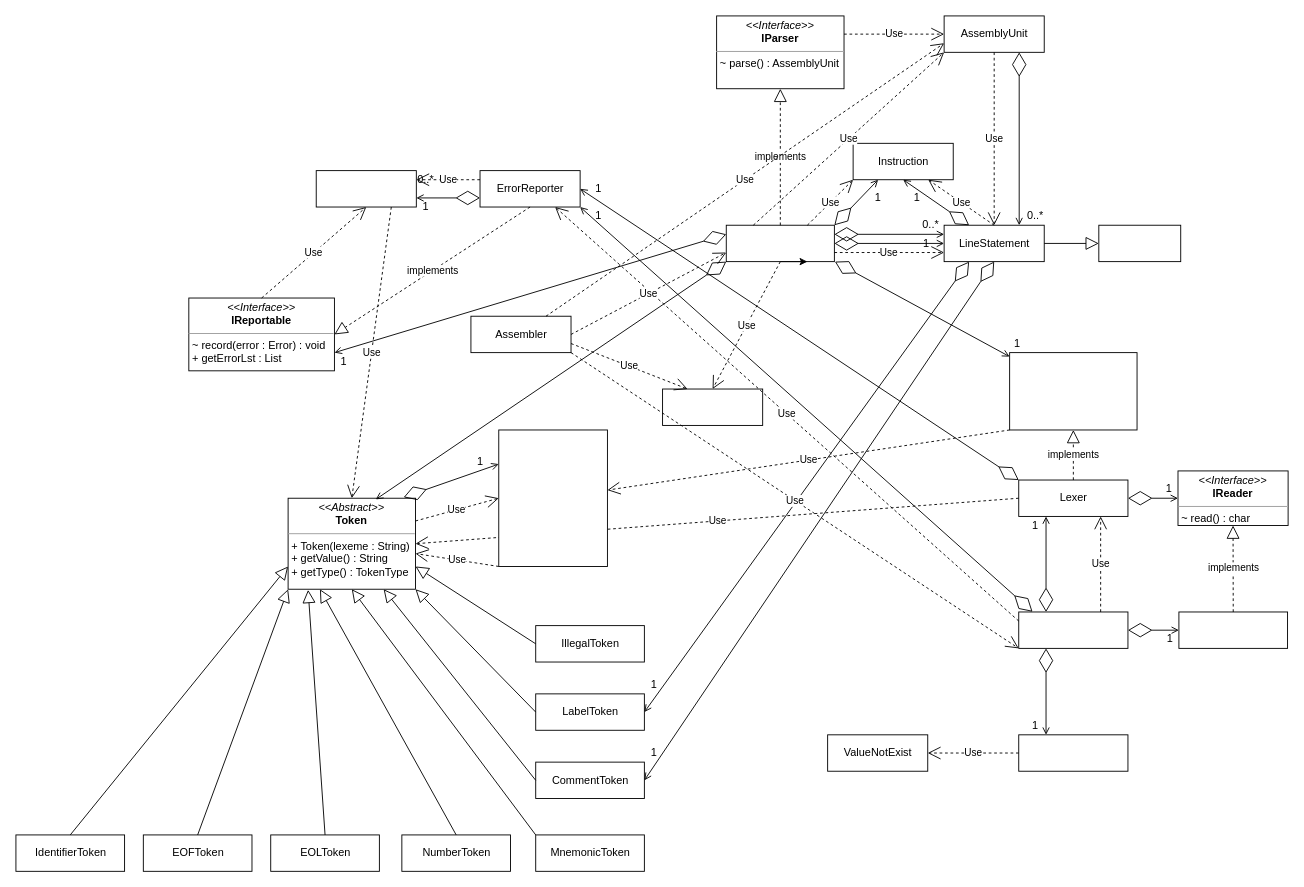
The diagram is 1304 pixels wide and 887 high, and some of its shapes have lost their labels. Each missing label, with the centre of its shape:
<<Abstract>> Node: (x=1139, y=243)
<<Enumeration>> TokenType EOF EOL NUMBER COMMENT IDENT ILLEGAL_CHAR MNEMONIC: (x=552, y=497)
<<Interface>> ILexer ~ getToken() : Token ~ getPosition() : String: (x=1073, y=391)
Environment: (x=1073, y=629)
Error: (x=365, y=188)
Parser: (x=779, y=243)
Reader: (x=1233, y=629)
SourceFile: (x=712, y=406)
SymbolTable: (x=1073, y=752)
